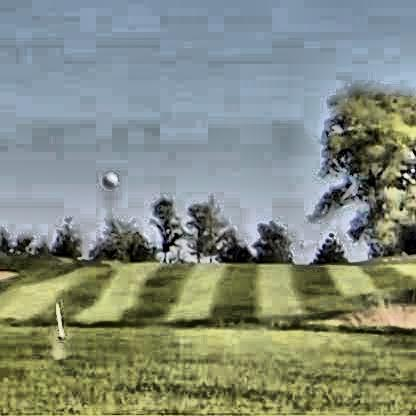golfball: (99, 168, 115, 187)
